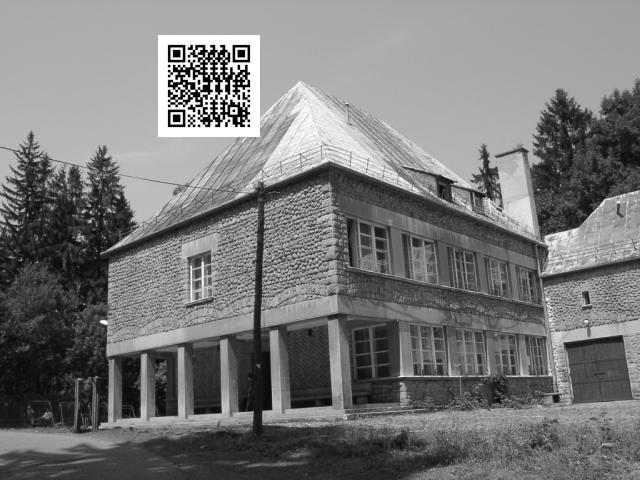qr_code: (163, 40, 256, 131)
